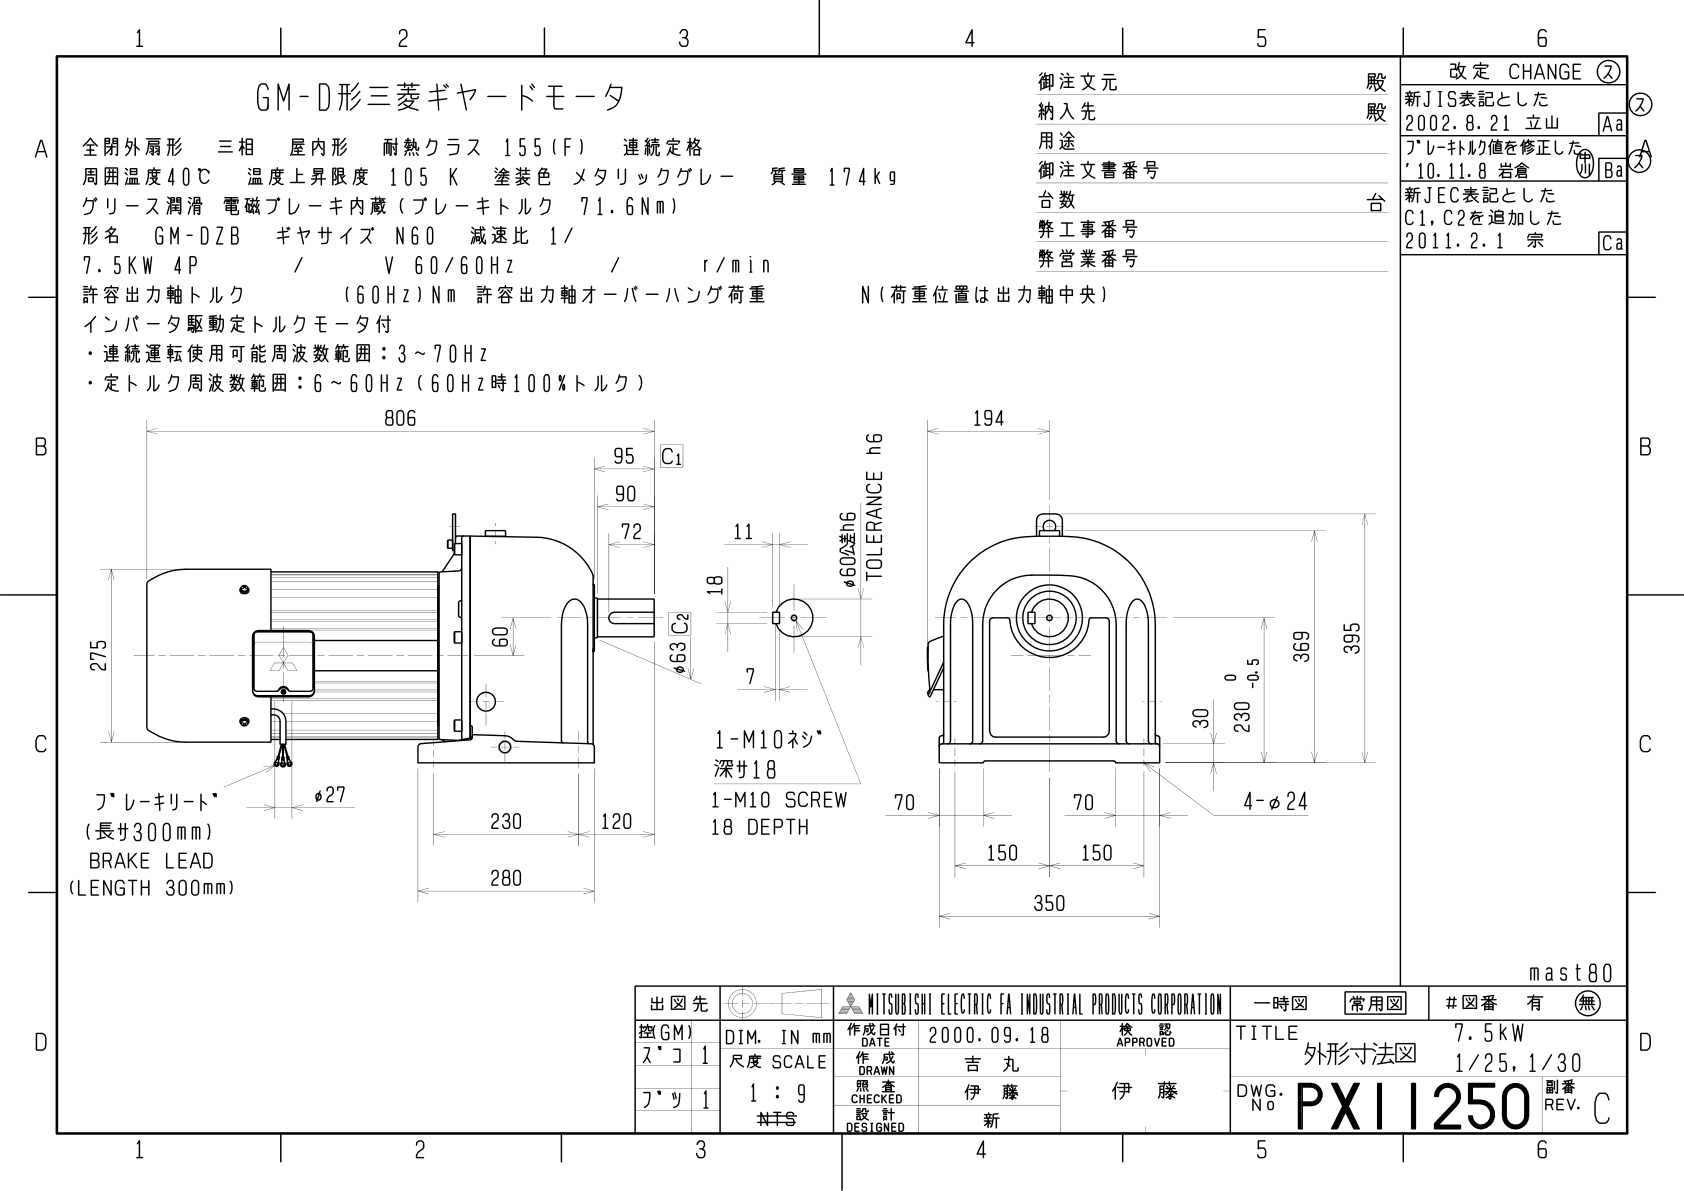GM_D_インバータ屋内_三相_脚: (1, 1, 1670, 1178)
